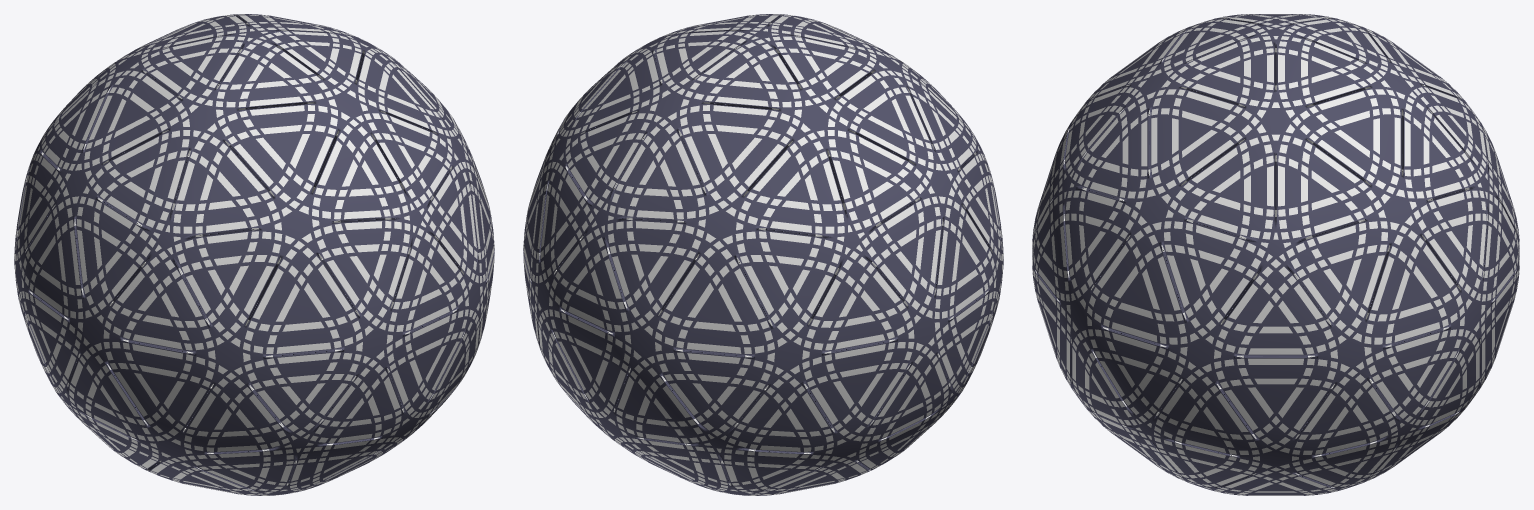
File: PROTOTYPE_X.fbx
3 renders of one model, left to right at view 1: azimuth 30°, elevation 25°; view 2: azimuth 150°, elevation 25°; view 3: azimuth 270°, elevation 25°, orthographic.
Parts seen in each view (by area): view 1: Icosphere.004; view 2: Icosphere.004; view 3: Icosphere.004.
Boxes of the visible parts, x1,y1,x2,y2 form: Icosphere.004: (14, 14, 494, 495); Icosphere.004: (523, 14, 1003, 495); Icosphere.004: (1032, 14, 1519, 495).
Size of the model in its own units: 188 by 192 by 190.
